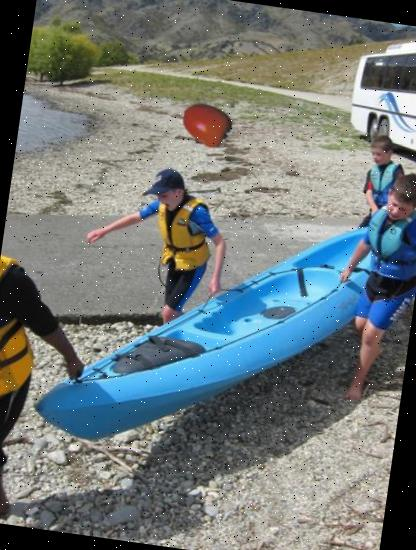Kaki: (178, 96, 236, 154)
